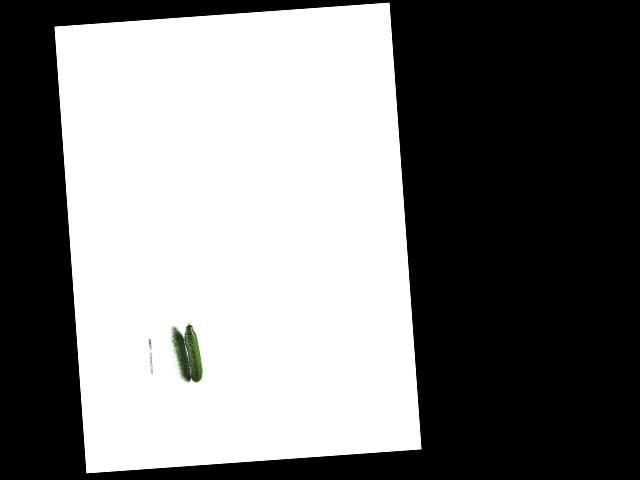cucumber: (182, 322, 203, 382)
